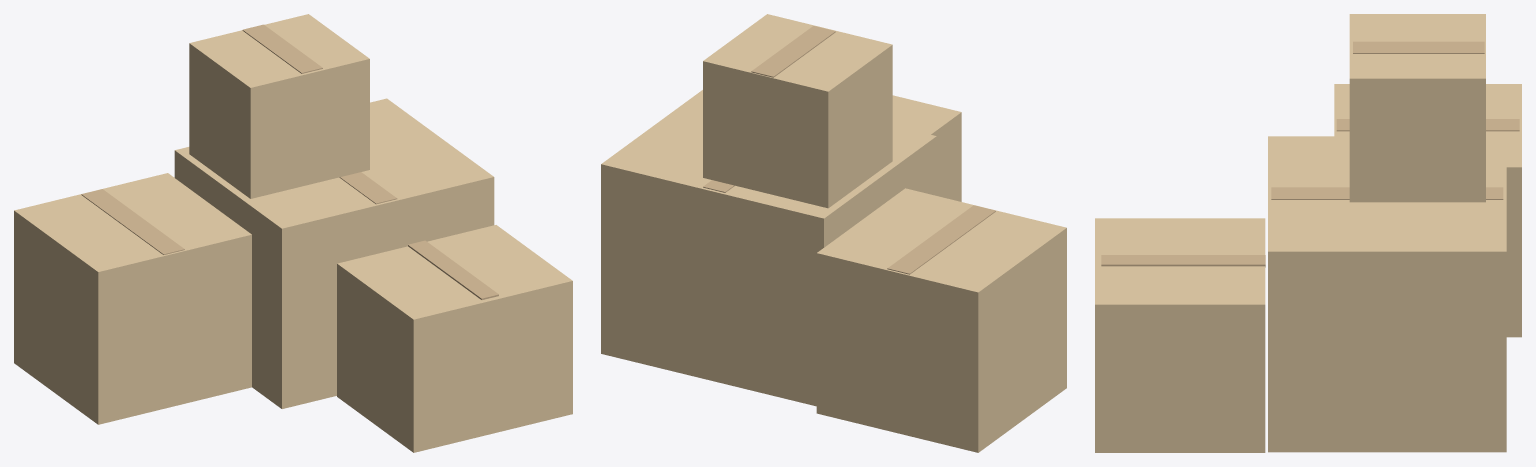
Rendered from 02_cardboard_boxes_8.glb.
3 renders of one model, left to right at view 1: azimuth 30°, elevation 25°; view 2: azimuth 150°, elevation 25°; view 3: azimuth 270°, elevation 25°, orthographic. The views are drawn at different scales.
Visible parts, largest first — view 1: part_3, part_5, part_1, part_7, part_4, part_6, part_8, part_2; view 2: part_1, part_3, part_7, part_5, part_4, part_8; view 3: part_1, part_5, part_7, part_3, part_6, part_8, part_2, part_4.
Boxes of the visible parts, x1,y1,x2,y2 form: part_3: [14, 173, 251, 424]; part_5: [337, 225, 572, 452]; part_1: [174, 98, 494, 408]; part_7: [189, 14, 369, 198]; part_4: [81, 189, 184, 254]; part_6: [408, 240, 498, 299]; part_8: [242, 24, 322, 73]; part_2: [339, 172, 397, 204]; part_1: [601, 90, 936, 406]; part_3: [816, 188, 1066, 452]; part_7: [703, 14, 892, 208]; part_5: [892, 95, 961, 201]; part_4: [887, 205, 995, 274]; part_8: [751, 26, 835, 77]; part_1: [1268, 136, 1506, 452]; part_5: [1095, 218, 1265, 452]; part_7: [1349, 14, 1485, 202]; part_3: [1334, 84, 1521, 337]; part_6: [1101, 255, 1265, 267]; part_8: [1353, 41, 1484, 53]; part_2: [1271, 187, 1503, 199]; part_4: [1336, 119, 1519, 131].
Bounding box in the file's own units: 1.38 × 1.06 × 1.25.
